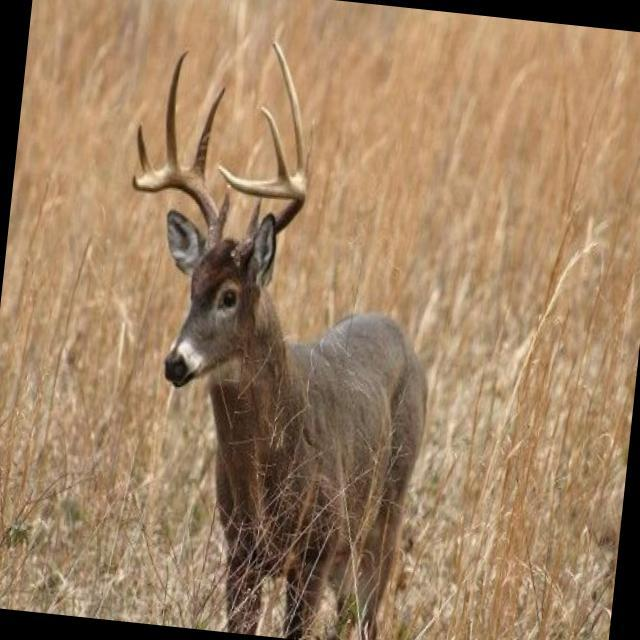L-G1: (245, 199, 261, 236)
L-G3: (272, 41, 305, 179)
L-G4: (260, 105, 289, 180)
R-G1: (216, 184, 230, 231)
R-G2: (191, 85, 226, 182)
R-G3: (164, 49, 189, 167)
R-G4: (135, 122, 151, 174)
